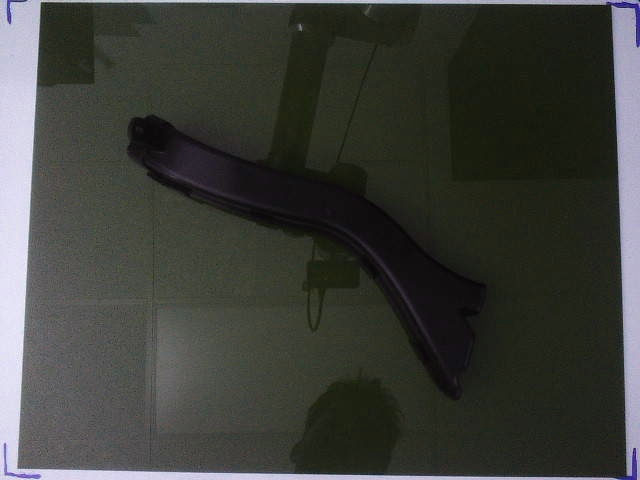887_B-Top: (127, 115, 486, 398)
